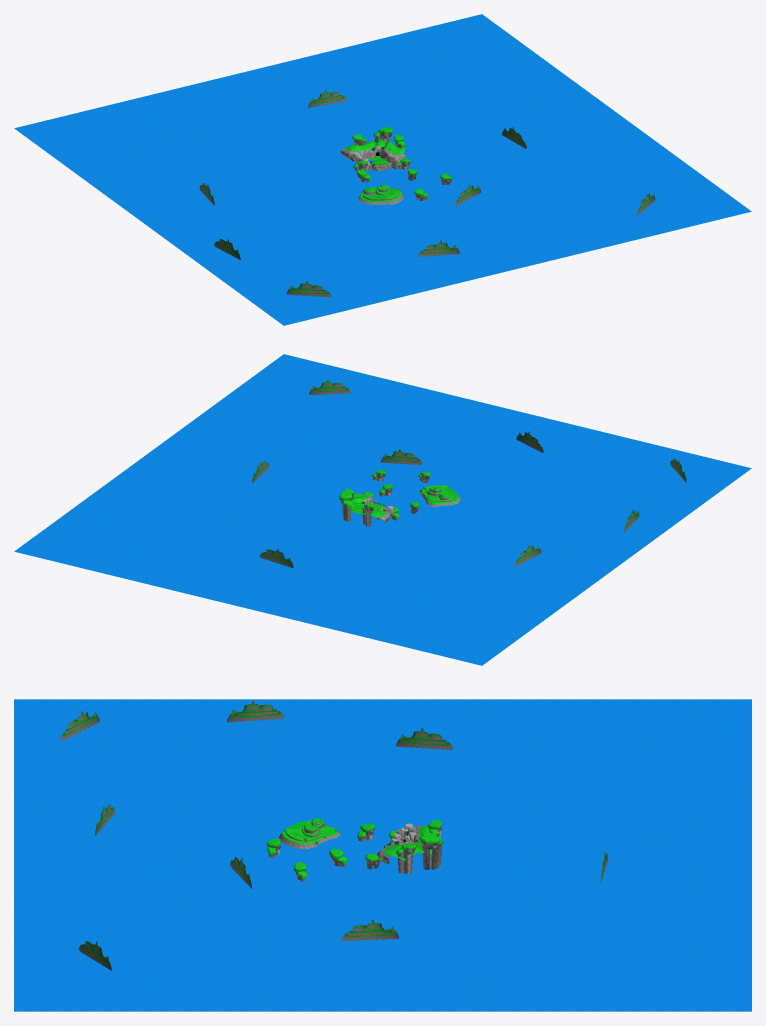
Rendered from chaoGarden.glb.
The picture shows the model from 3 angles, top to bottom: view 1: azimuth 30°, elevation 25°; view 2: azimuth 150°, elevation 25°; view 3: azimuth 270°, elevation 25°; orthographic projection. The views are drawn at different scales.
Parts seen in each view (by area): view 1: Plane.009, ghz04Z_km1_farislandA_03, Cylinder.012; view 2: Plane.009, ghz04Z_km1_farislandA_03; view 3: Plane.009, ghz04Z_km1_farislandA_03, Cube.004, Cube.003, Cube.009, ghz01E_km1_rockA03L_26.007.
Boxes of the visible parts, x1,y1,x2,y2 form: Plane.009: [14, 14, 751, 325]; ghz04Z_km1_farislandA_03: [358, 183, 403, 204]; Cylinder.012: [341, 146, 405, 169]; Plane.009: [14, 354, 751, 665]; ghz04Z_km1_farislandA_03: [420, 485, 460, 506]; Plane.009: [14, 699, 751, 1011]; ghz04Z_km1_farislandA_03: [278, 818, 340, 849]; Cube.004: [341, 920, 399, 941]; Cube.003: [396, 728, 453, 749]; Cube.009: [227, 700, 284, 722]; ghz01E_km1_rockA03L_26.007: [419, 832, 443, 869].
Bounding box in the file's own units: 302 × 30.67 × 301.
14 materials, 14 textured.
